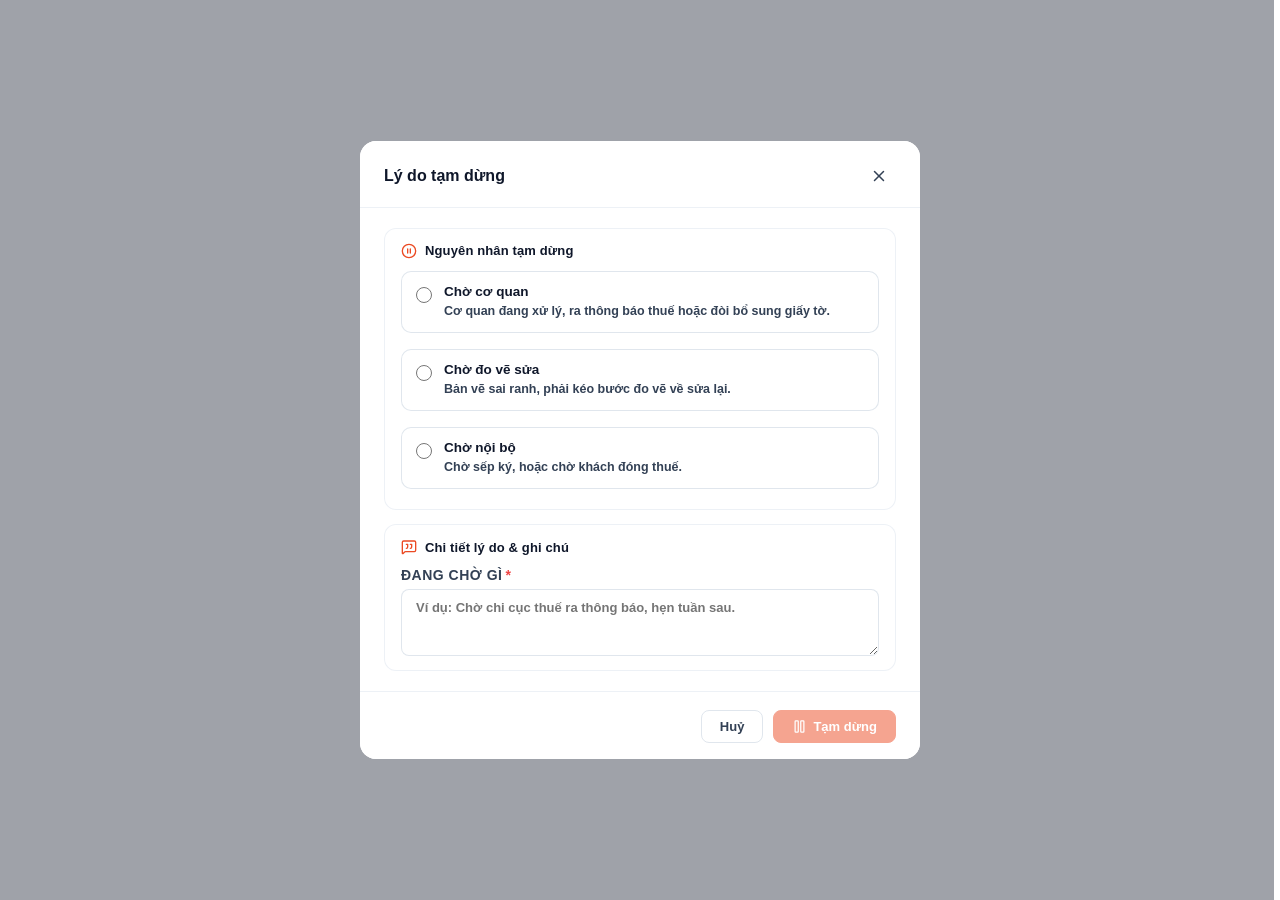
Test case: Chọn lý do tạm dừng › chọn CHỜ ĐO VẼ thì nút đổi chữ — còn một nhịp nữa mới xong
Click the radio button labelled "Chờ đo vẽ sửa": (424, 373) [416,365,432,381]
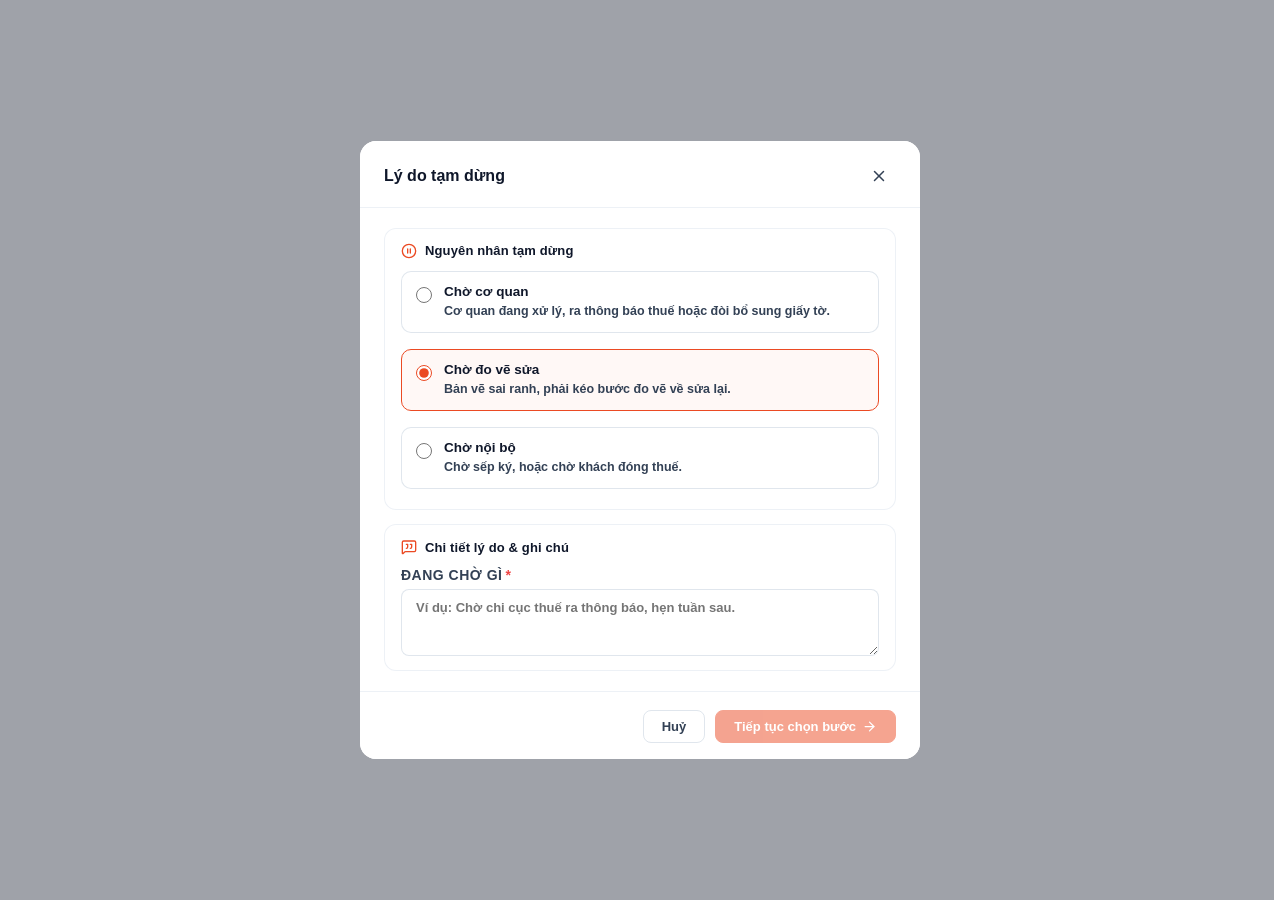
Expected: the button "Tiếp tục chọn bước" is shown, [715,710,896,743]
